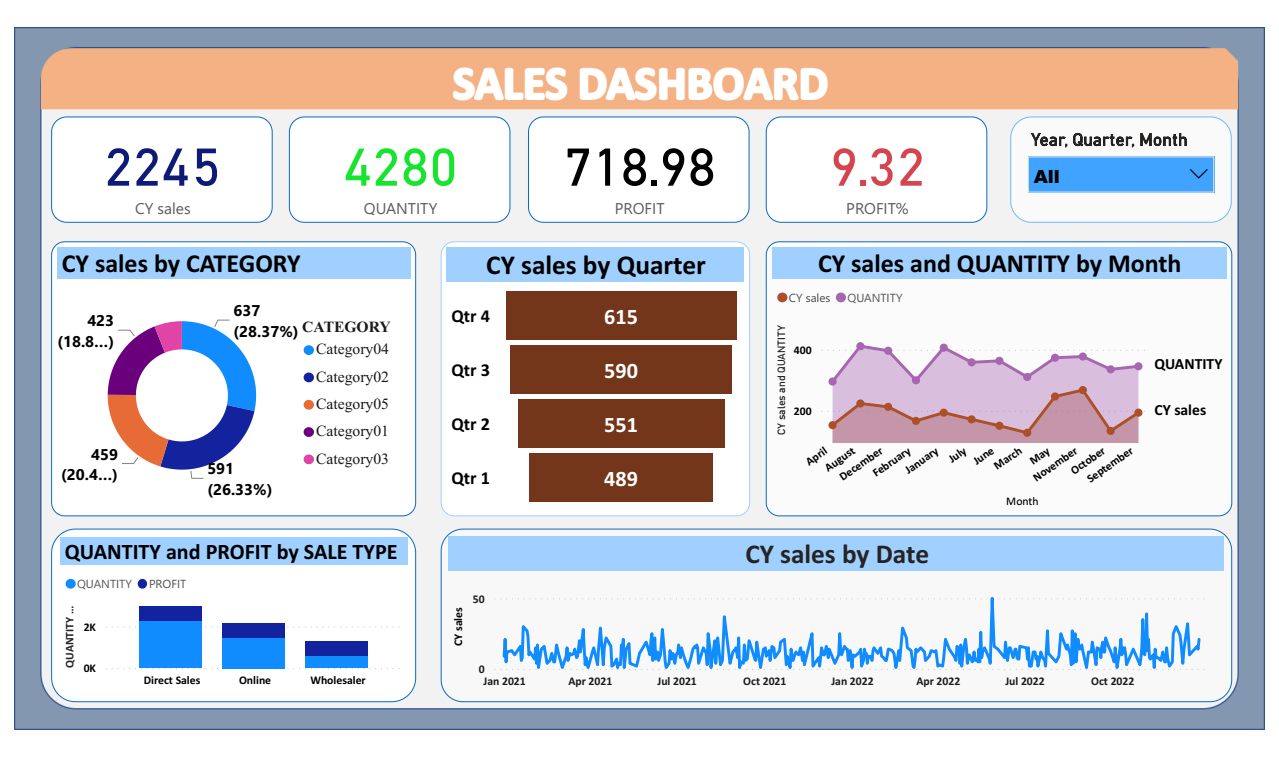

What the dashboard file says about the page in this screenshot:
{"tool":"powerbi","page":{"name":"Page 1","canvas":[1280,720],"ordinal":0},"visuals":[{"type":"card","fields":{"Values":["Date Dim.CY sales"]},"box":[37,90.7,226.8,109.2],"z":0},{"type":"card","fields":{"Values":["Sum(Input Data.QUANTITY)"]},"box":[281.1,90.7,226.8,109.2],"z":1000},{"type":"card","fields":{"Values":["Sum(Master Data.PROFIT)"]},"box":[525.2,90.7,226.8,109.2],"z":2000},{"type":"card","fields":{"Values":["Sum(Master Data.PROFIT%)"]},"box":[769.3,90.7,226.8,109.2],"z":3000},{"type":"slicer","fields":{"Values":["Date Dim.Year","Date Dim.Quarter","Date Dim.Month"]},"box":[1019.6,90.7,226.8,109.2],"z":3001},{"type":"donutChart","fields":{"Category":["Master Data.CATEGORY"],"Y":["Date Dim.CY sales"]},"box":[37.2,218.8,374.4,282.2],"z":3002},{"type":"funnel","fields":{"Category":["Date Dim.Quarter"],"Y":["Date Dim.CY sales"]},"box":[436.3,218.8,316.6,282.2],"z":3003},{"type":"areaChart","fields":{"Y":["Date Dim.CY sales","Sum(Input Data.QUANTITY)"],"Category":["Date Dim.Month"]},"box":[769.4,218.8,477.6,282.2],"z":3004},{"type":"lineChart","fields":{"Category":["Date Dim.Date"],"Y":["Date Dim.CY sales"]},"box":[436.3,513.4,810.7,177.5],"z":3005},{"type":"columnChart","fields":{"Category":["Input Data.SALE TYPE"],"Y":["Sum(Input Data.QUANTITY)","Sum(Master Data.PROFIT)"]},"box":[37,513,374,178],"z":3006}]}

Visuals, with their boxes on the page's 1280x720 design canvas (x1, y1, x2, y2). These are canvas units, not pixel positions in the 1279x758 screenshot, which may show the page scaled, cropped or inside an application window:
card - Date Dim.CY sales: bbox=[37, 91, 264, 200]
card - Sum(Input Data.QUANTITY): bbox=[281, 91, 508, 200]
card - Sum(Master Data.PROFIT): bbox=[525, 91, 752, 200]
card - Sum(Master Data.PROFIT%): bbox=[769, 91, 996, 200]
slicer - Date Dim.Year x Date Dim.Quarter: bbox=[1020, 91, 1246, 200]
donutChart - Master Data.CATEGORY x Date Dim.CY sales: bbox=[37, 219, 412, 501]
funnel - Date Dim.Quarter x Date Dim.CY sales: bbox=[436, 219, 753, 501]
areaChart - Date Dim.CY sales x Sum(Input Data.QUANTITY): bbox=[769, 219, 1247, 501]
lineChart - Date Dim.Date x Date Dim.CY sales: bbox=[436, 513, 1247, 691]
columnChart - Input Data.SALE TYPE x Sum(Input Data.QUANTITY): bbox=[37, 513, 411, 691]
